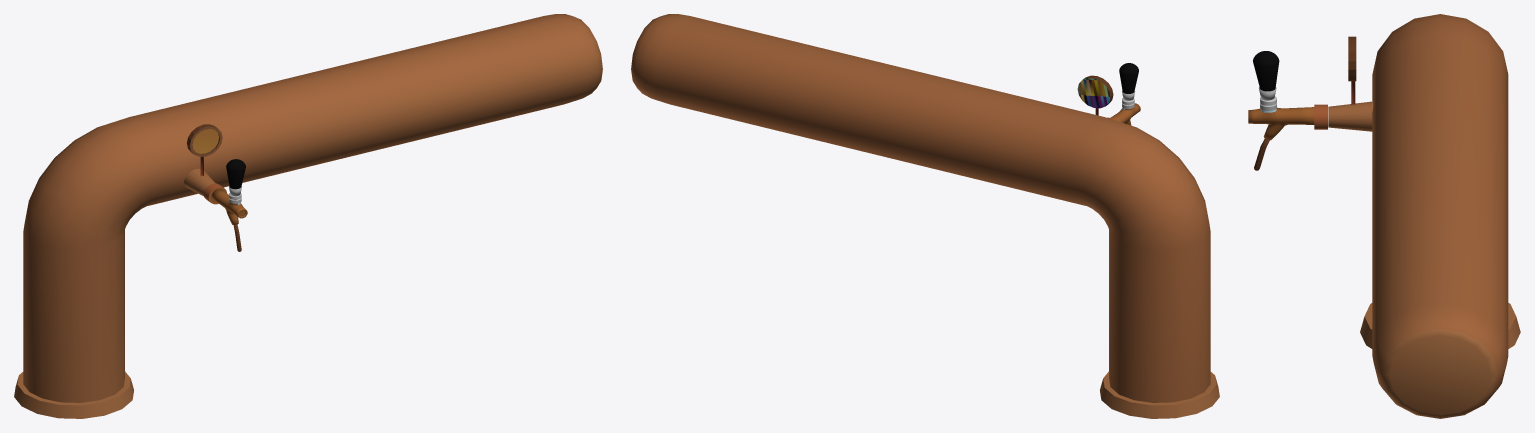
File: kranik (1).fbx
3 renders of one model, left to right at view 1: azimuth 30°, elevation 25°; view 2: azimuth 150°, elevation 25°; view 3: azimuth 270°, elevation 25°, orthographic. The views are drawn at different scales.
Parts seen in each view (by area): view 1: tuba, kranik; view 2: tuba, kranik; view 3: tuba, kranik.
Boxes of the visible parts, left/top/right/bottom form: tuba: left=14, top=14, right=602, bottom=418; kranik: left=184, top=124, right=247, bottom=251; tuba: left=631, top=14, right=1219, bottom=418; kranik: left=1077, top=63, right=1140, bottom=125; tuba: left=1360, top=14, right=1520, bottom=418; kranik: left=1248, top=36, right=1373, bottom=170.
Size of the model in its own units: 131 by 59.61 by 41.34.
